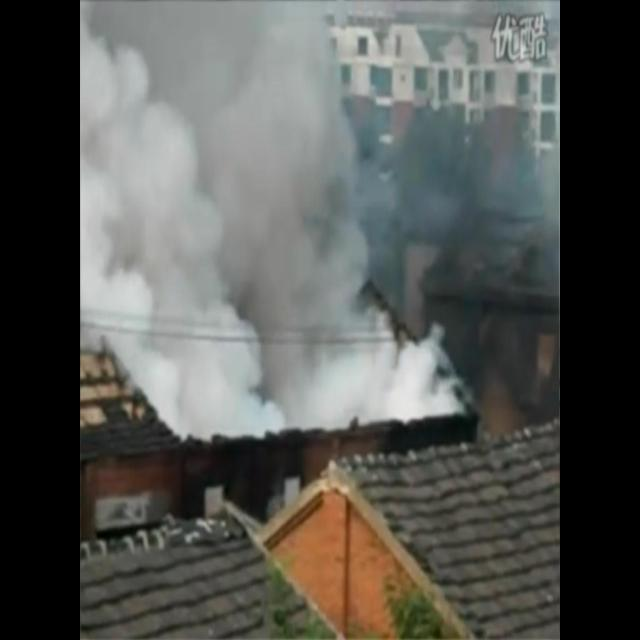Smoke: (80, 1, 467, 443)
